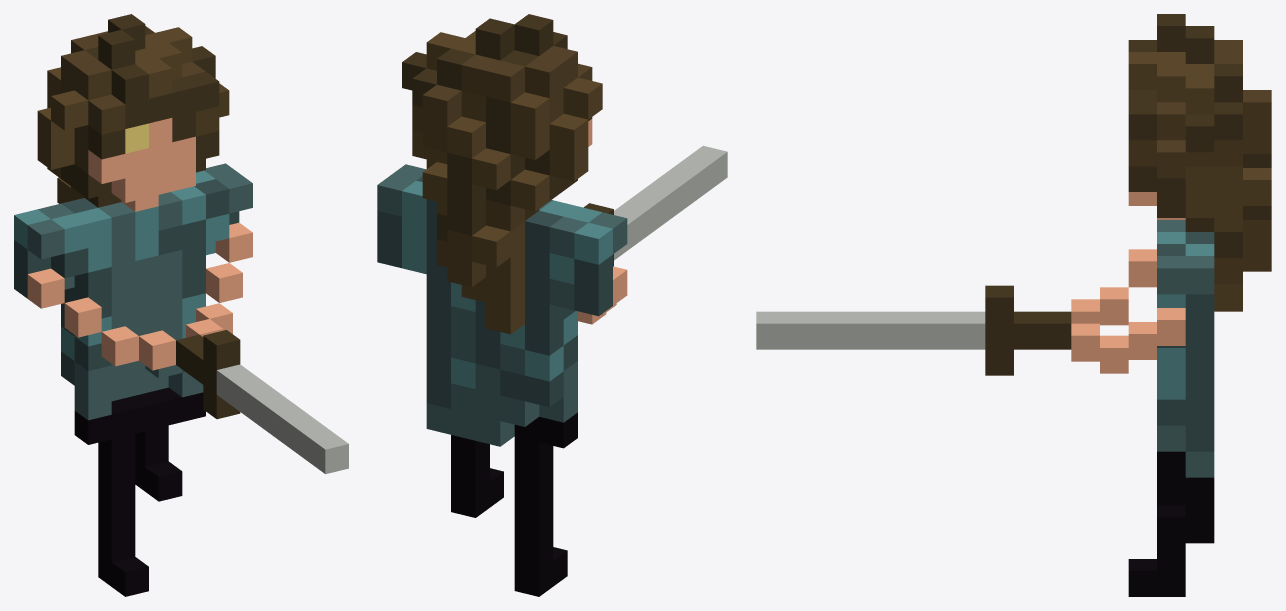
The model's file is SpinningGirlCharacter-5.obj.
3 renders of one model, left to right at view 1: azimuth 30°, elevation 25°; view 2: azimuth 150°, elevation 25°; view 3: azimuth 270°, elevation 25°, orthographic. The views are drawn at different scales.
Visible parts, largest first — view 1: SpinningGirlCharacter-5; view 2: SpinningGirlCharacter-5; view 3: SpinningGirlCharacter-5.
Boxes of the visible parts, bbox=[...] form: SpinningGirlCharacter-5: bbox=[14, 14, 348, 596]; SpinningGirlCharacter-5: bbox=[377, 14, 727, 596]; SpinningGirlCharacter-5: bbox=[756, 14, 1271, 596].
Bounding box in the file's own units: 9 × 22 × 18.
1 material, 1 textured.
